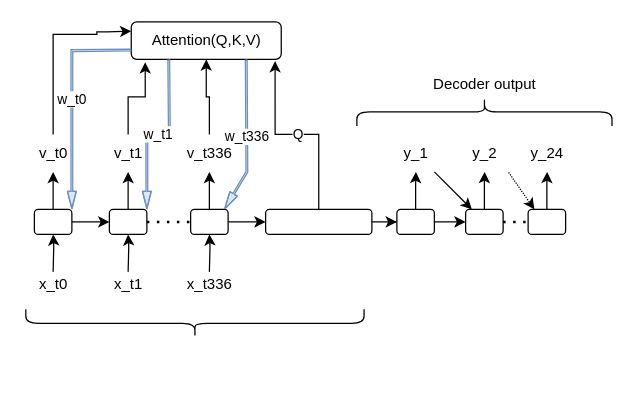
This 634x400 diagram has some shape labels left out. The centre of each missing label's shape, as x and y in pixels:
Encoder Input: point (194, 323)
Thought vector: point (318, 221)
